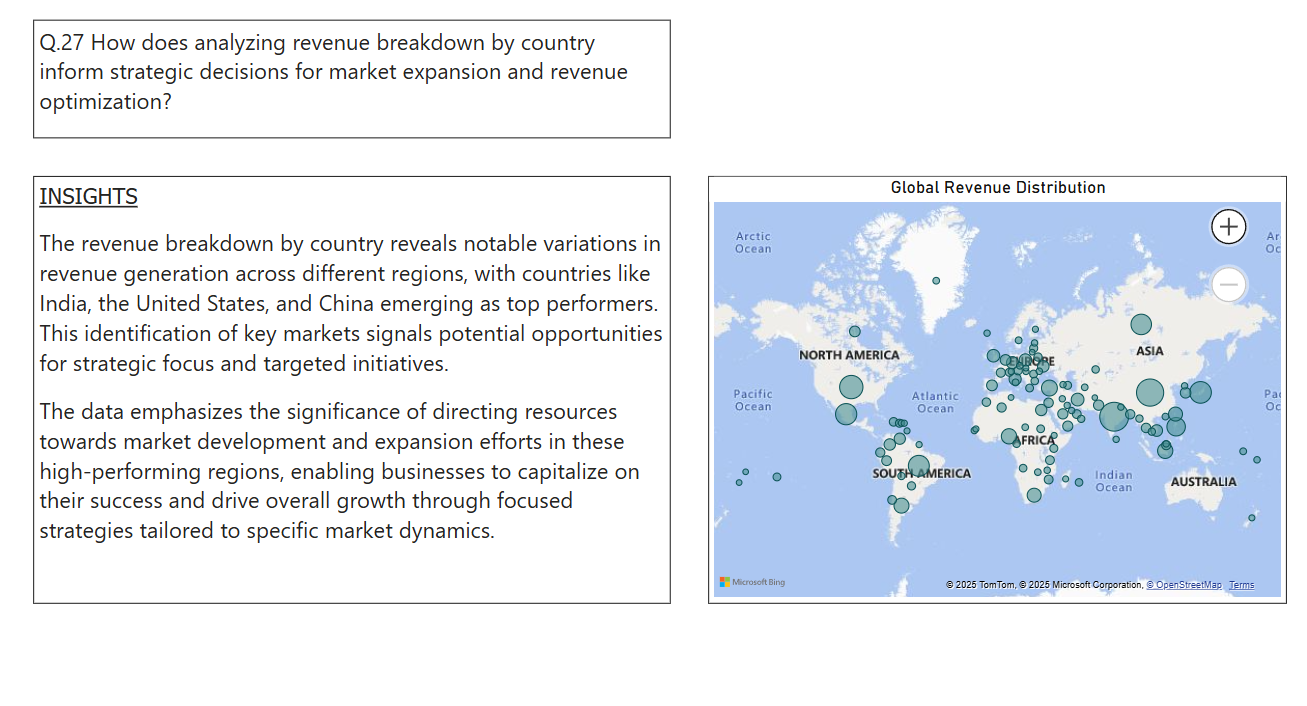

This screenshot's page, from the dashboard's own definition file:
{"tool":"powerbi","page":{"name":"Q27","canvas":[1280,720],"ordinal":32},"visuals":[{"type":"textbox","box":[44.6,37.4,615.3,114.6],"z":0},{"type":"textbox","box":[44.6,188.2,615.3,412.6],"z":1000},{"type":"map","title":"Global Revenue Distribution","fields":{"Category":["country.country"],"Size":["payment.Revenue"]},"box":[696.1,188.2,558.6,412.6],"z":2000}]}

Visuals, with their boxes on the page's 1280x720 design canvas (x1, y1, x2, y2). These are canvas units, not pixel positions in the 1307x706 screenshot, which may show the page scaled, cropped or inside an application window:
textbox: <bbox>45, 37, 660, 152</bbox>
textbox: <bbox>45, 188, 660, 601</bbox>
"Global Revenue Distribution" map: <bbox>696, 188, 1255, 601</bbox>
